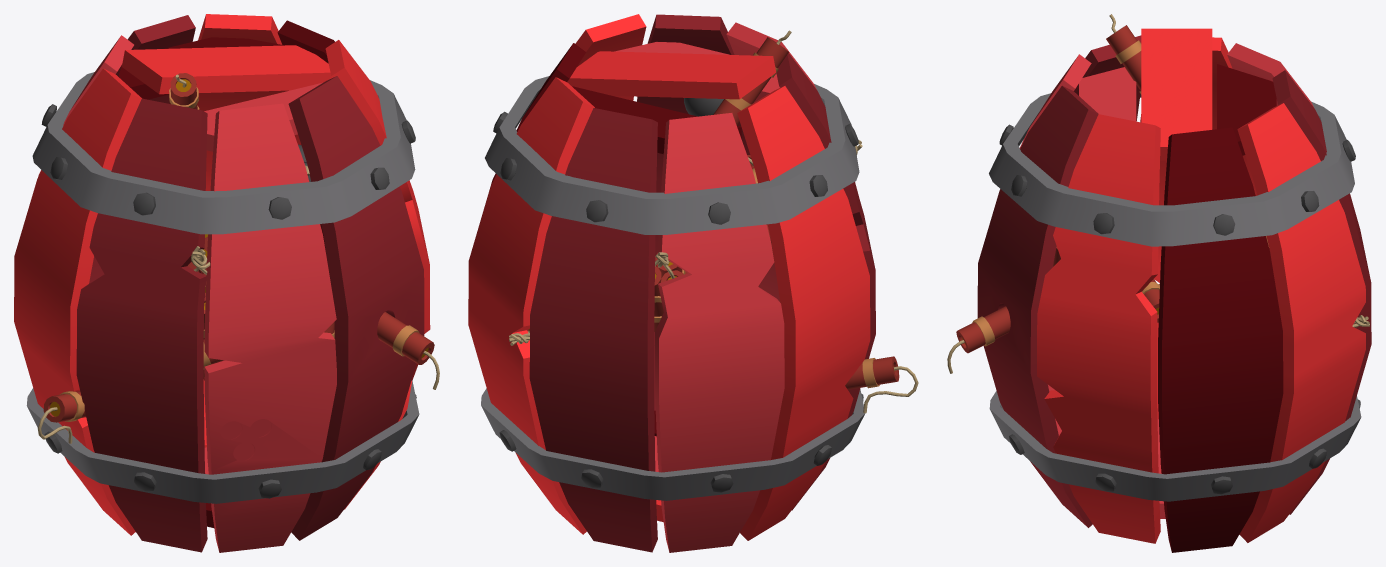
The model's file is Baril_TnT.fbx.
3 views of the same model, side by side, from view 1: azimuth 30°, elevation 25°; view 2: azimuth 150°, elevation 25°; view 3: azimuth 270°, elevation 25° (orthographic). The views are drawn at different scales.
Parts seen in each view (by area): view 1: Tablas (10).002, Tablas (2).002, Tablas (6).002, Tablas.002, Metal (2).002, Metal (3).002, Tablas_Bajas (5).002, Tablas (13).002, Tablas (12).002, Tablas (8).002, Tablas_Bajas (3).002, Tablas_Bajas.002 (+5 smaller); view 2: Tablas (16).002, Tablas (8).002, Tablas.002, Tablas (12).002, Metal (2).002, Metal (3).002, Tablas_Bajas (5).002, Tablas (2).002, Tablas (6).002, Tablas (13).002, Tablas_Bajas (3).002, Tablas (10).002 (+6 smaller); view 3: Tablas (4).002, Tablas (13).002, Tablas (12).002, Tablas (6).002, Metal (2).002, Metal (3).002, Tablas_Bajas (5).002, Tablas (8).002, Tablas_Bajas (3).002, Tablas_Bajas.002, Tablas.002, Tablas (16).002 (+4 smaller).
Part boxes in pixels (x1,y1,x2,y2): Tablas (10).002: (204,103,336,552); Tablas (2).002: (76,98,207,552); Tablas (6).002: (288,76,424,540); Tablas.002: (14,68,141,535); Metal (2).002: (32,72,415,234); Metal (3).002: (26,381,419,503); Tablas_Bajas (5).002: (122,45,331,94); Tablas (13).002: (325,40,430,509); Tablas (12).002: (197,14,301,414); Tablas (8).002: (89,15,195,283); Tablas_Bajas (3).002: (118,37,284,99); Tablas_Bajas.002: (204,82,322,151); Tablas (16).002: (655,113,784,552); Tablas (8).002: (529,108,657,552); Tablas.002: (737,86,870,540); Tablas (12).002: (468,77,594,534); Metal (2).002: (485,76,859,234); Metal (3).002: (481,388,865,500); Tablas_Bajas (5).002: (567,51,776,99); Tablas (2).002: (776,53,875,510); Tablas (6).002: (637,14,750,410); Tablas (13).002: (575,14,646,100); Tablas_Bajas (3).002: (572,86,741,154); Tablas (10).002: (726,22,816,302); Tablas (4).002: (1158,127,1283,552); Tablas (13).002: (1037,114,1160,543); Tablas (12).002: (1237,103,1365,542); Tablas (6).002: (977,85,1098,527); Metal (2).002: (989,93,1354,246); Metal (3).002: (989,391,1361,501); Tablas_Bajas (5).002: (1141,28,1212,160); Tablas (8).002: (1272,70,1371,514); Tablas_Bajas (3).002: (1217,64,1276,155); Tablas_Bajas.002: (1079,67,1136,121); Tablas.002: (1140,37,1257,418); Tablas (16).002: (1227,43,1313,107).
Size of the model in its own units: 129 by 147 by 125.
